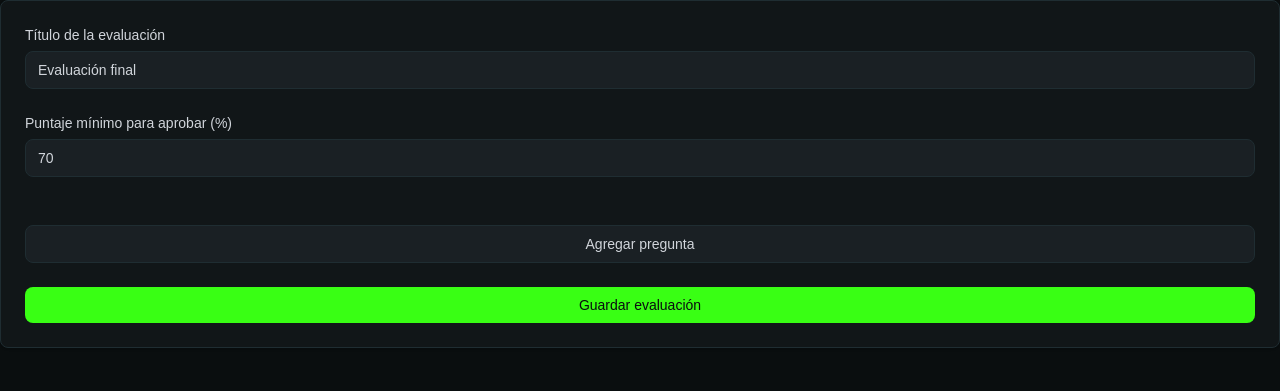
Test case: QuizBuilderForm › shows the action error via role="alert" without losing entered data
Replace the text in the field labelled "Título de la evaluación" with "Evaluación final editada" at (640, 70), box [25, 51, 1255, 89]
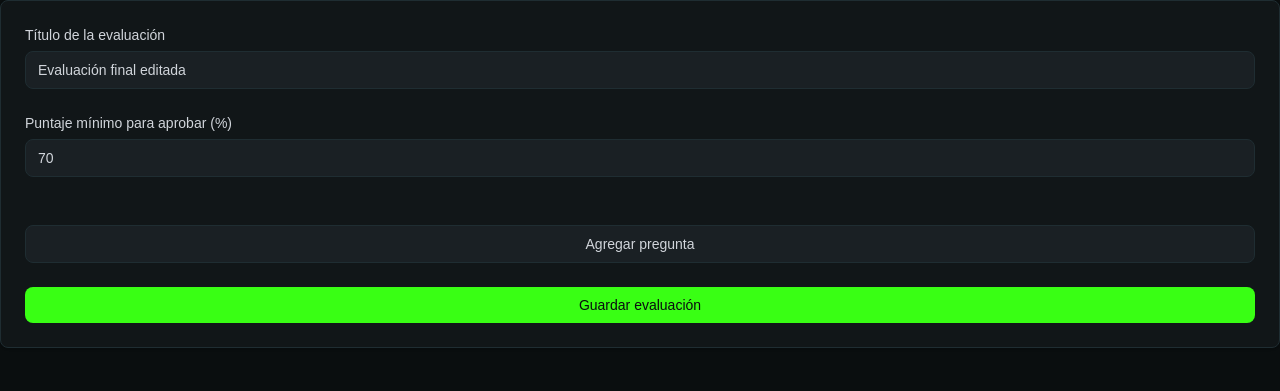
Submit the form named "Guardar evaluación"
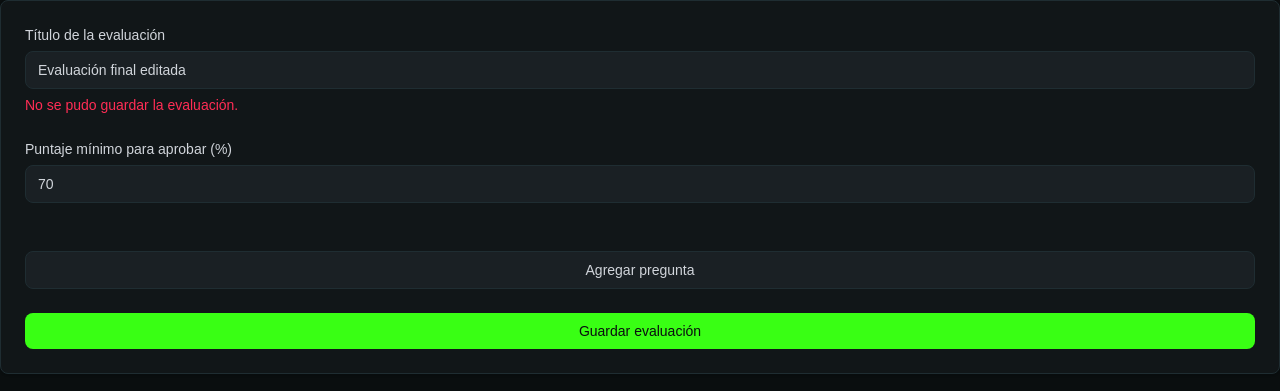
expect the message reads "No se pudo guardar la evaluación.": met, box [25, 97, 238, 113]
